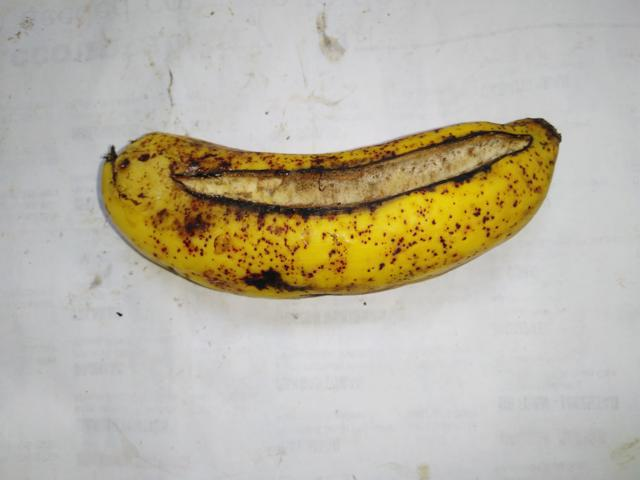rotten: (169, 113, 532, 213)
